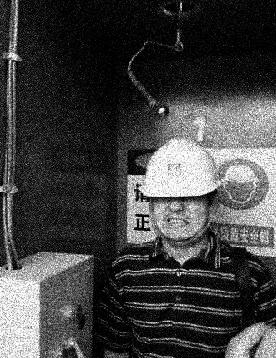helmet: (139, 137, 224, 246)
